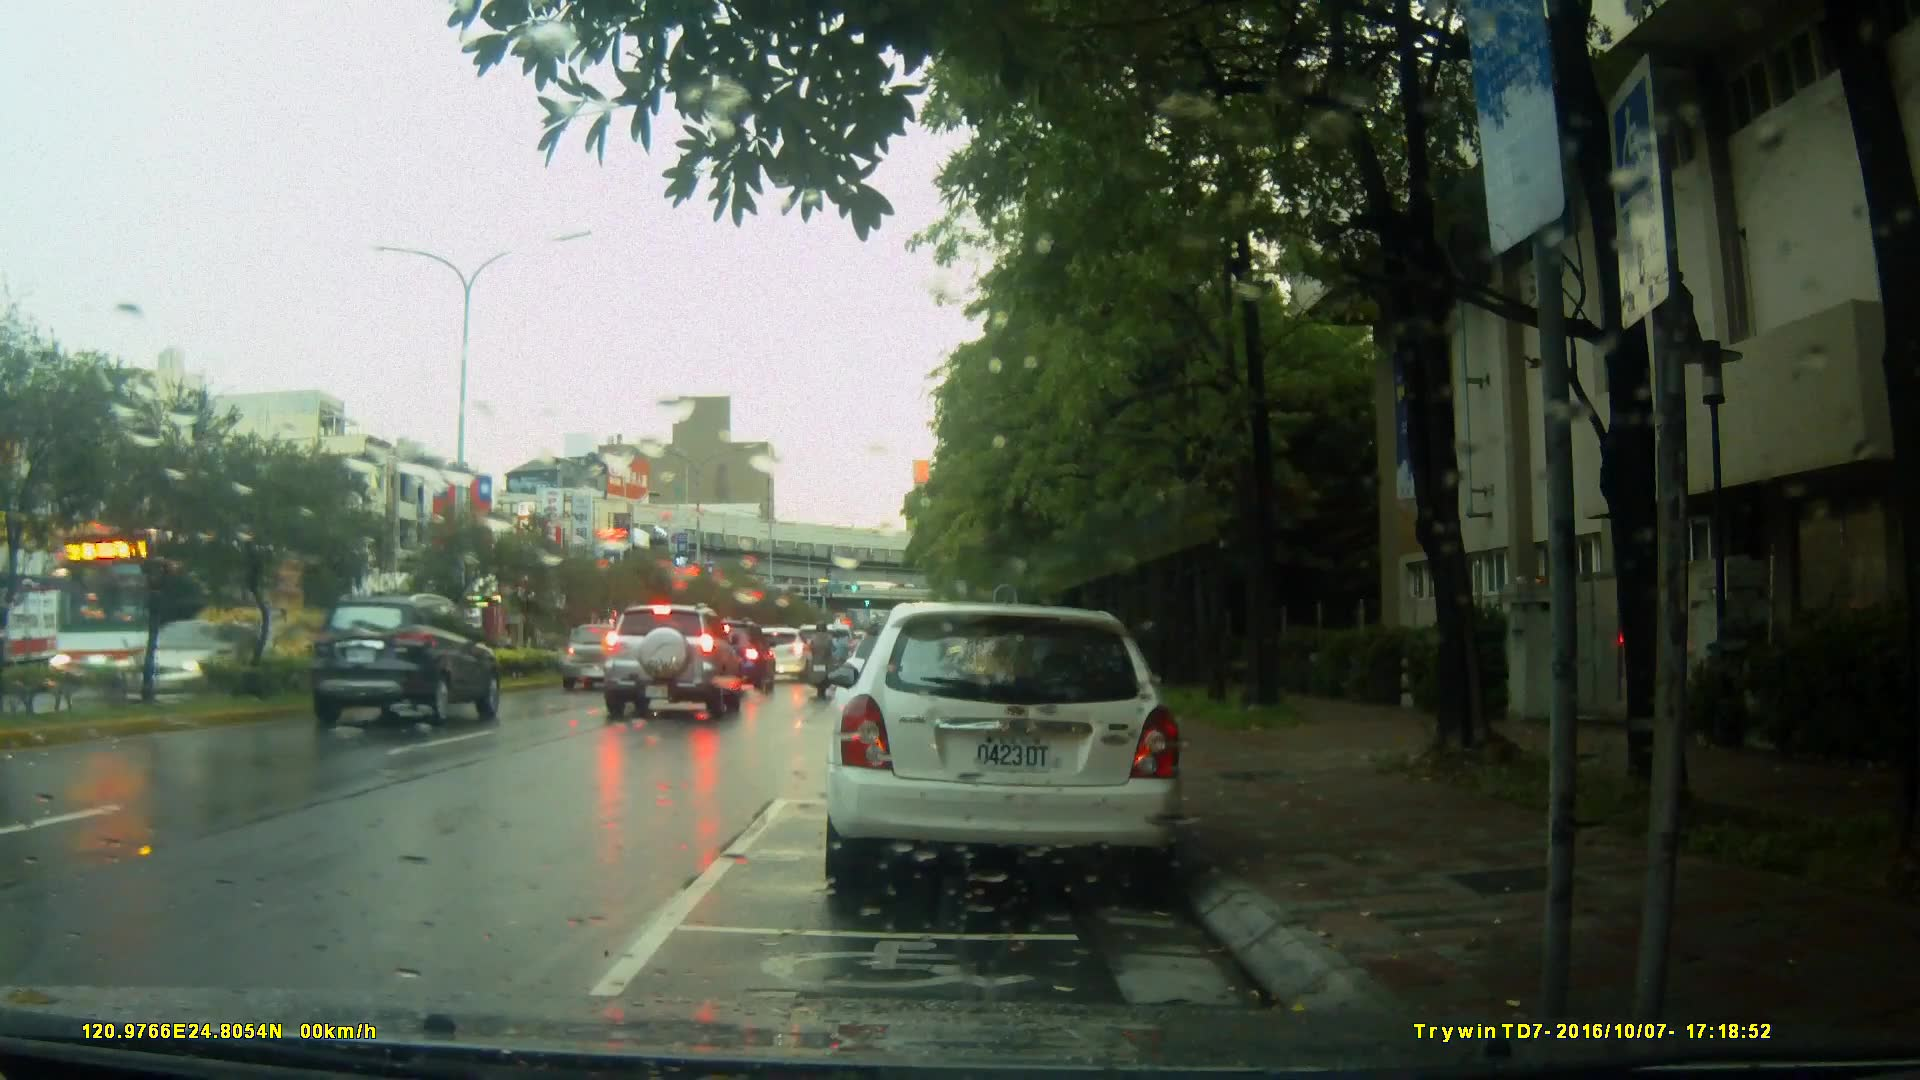rider: (806, 616, 842, 705)
vehicle: (820, 602, 1188, 898), (55, 538, 334, 686), (305, 589, 505, 726), (598, 603, 742, 724), (687, 618, 779, 694)
